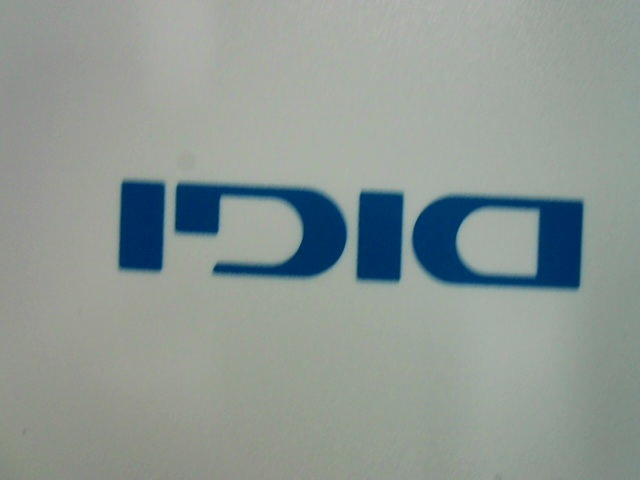BL_DIGI: (104, 159, 587, 290)
